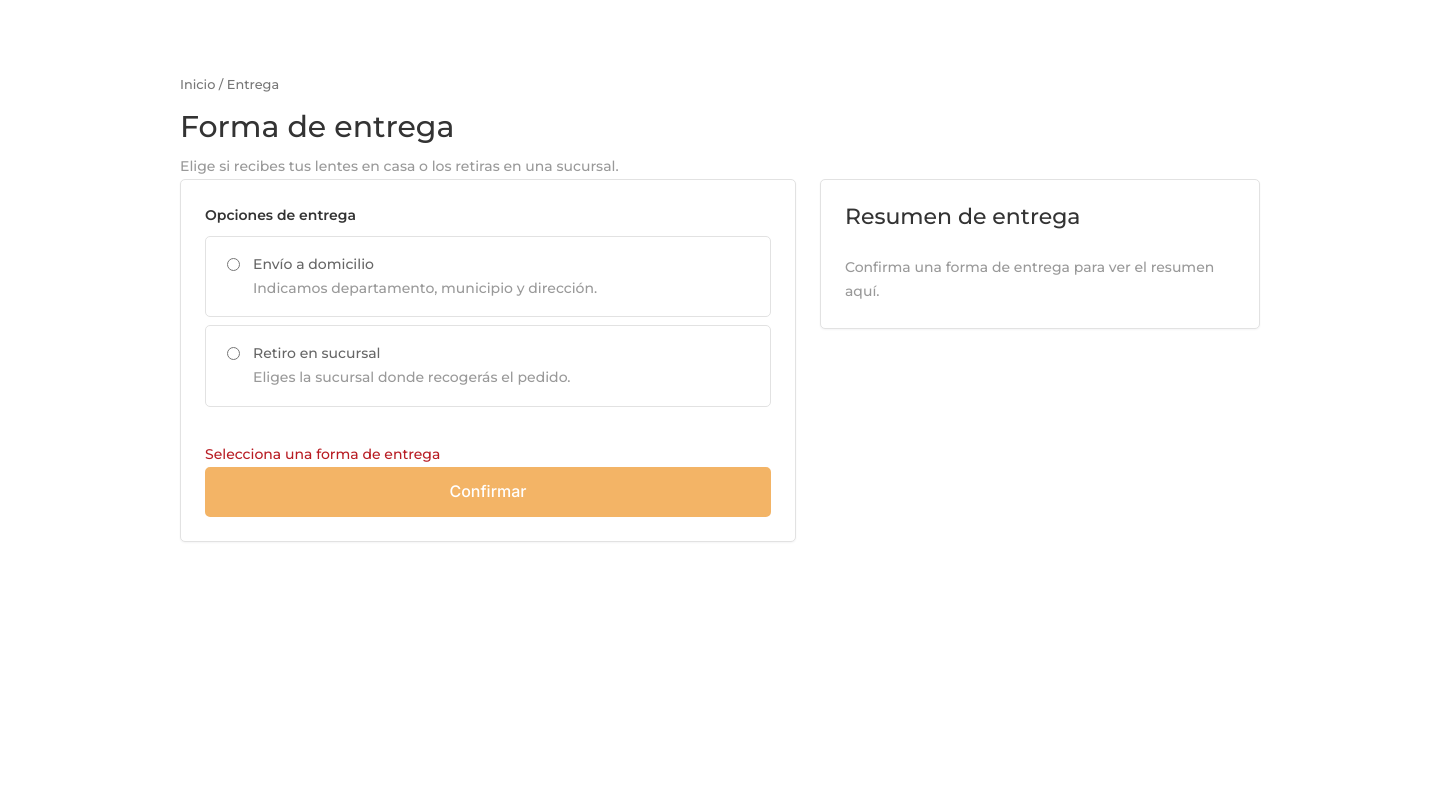
Test case: validación de forma de entrega › error al guardar: muestra el aviso y no llena el resumen
Click the radio button labelled "Envío a domicilio" at (234, 264), box [227,258,240,271]
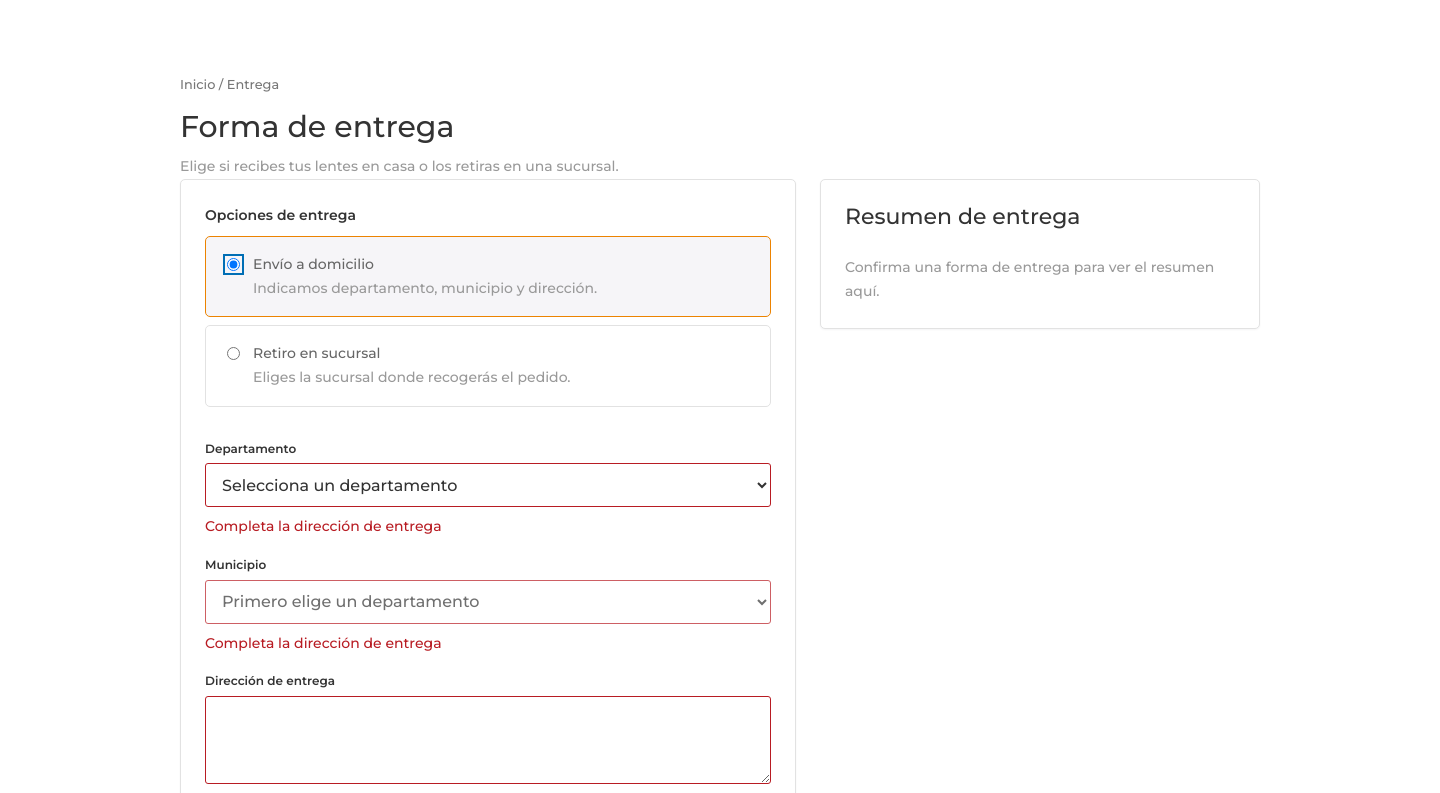
Select "San Salvador" in the dropdown labelled "Departamento" at (488, 485), box [205,463,771,507]
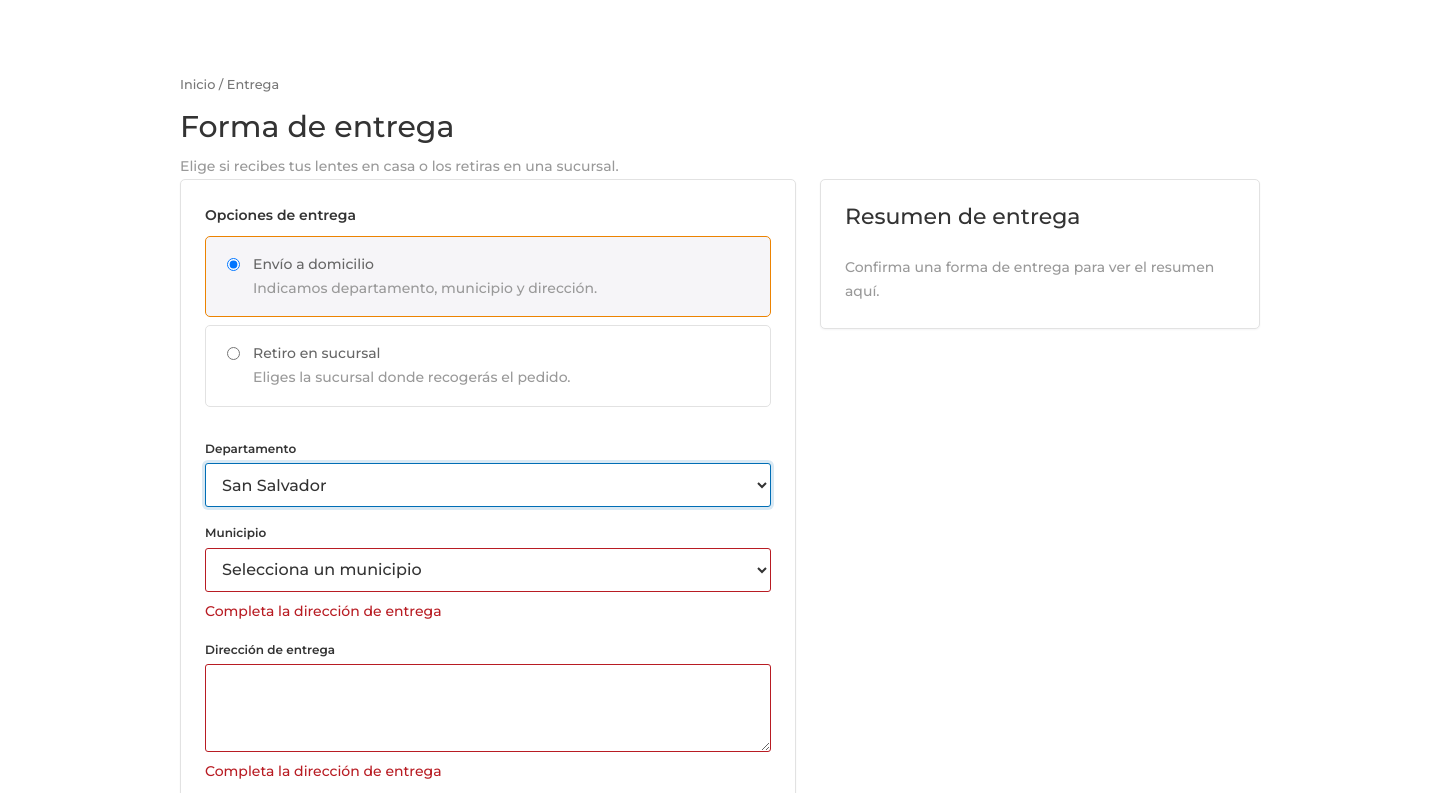
Select "Soyapango" in the dropdown labelled "Municipio" at (488, 570), box [205,548,771,592]
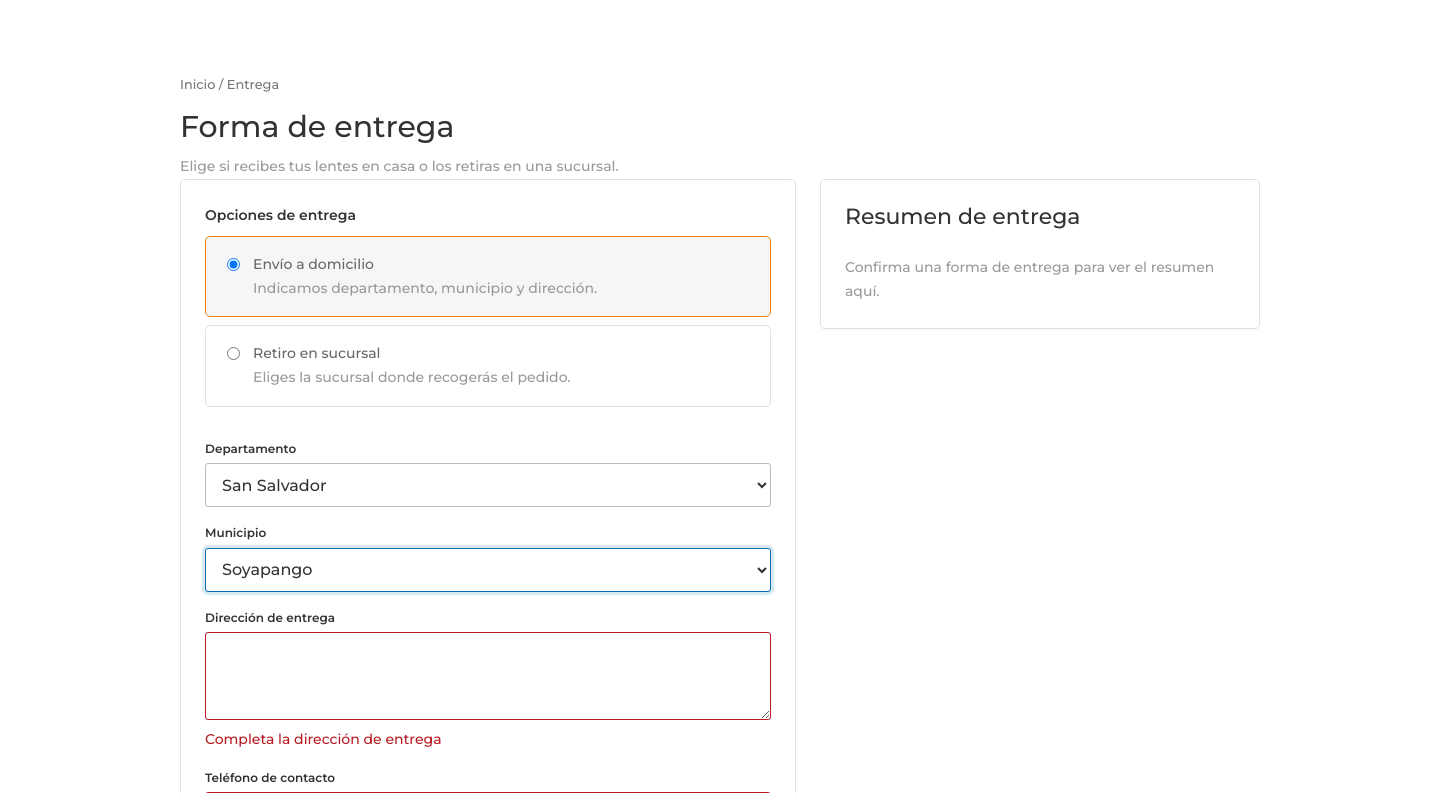
Type "Calle 1" into the text box labelled "Dirección de entrega" at (488, 676), box [205,632,771,720]
(page scrolled)
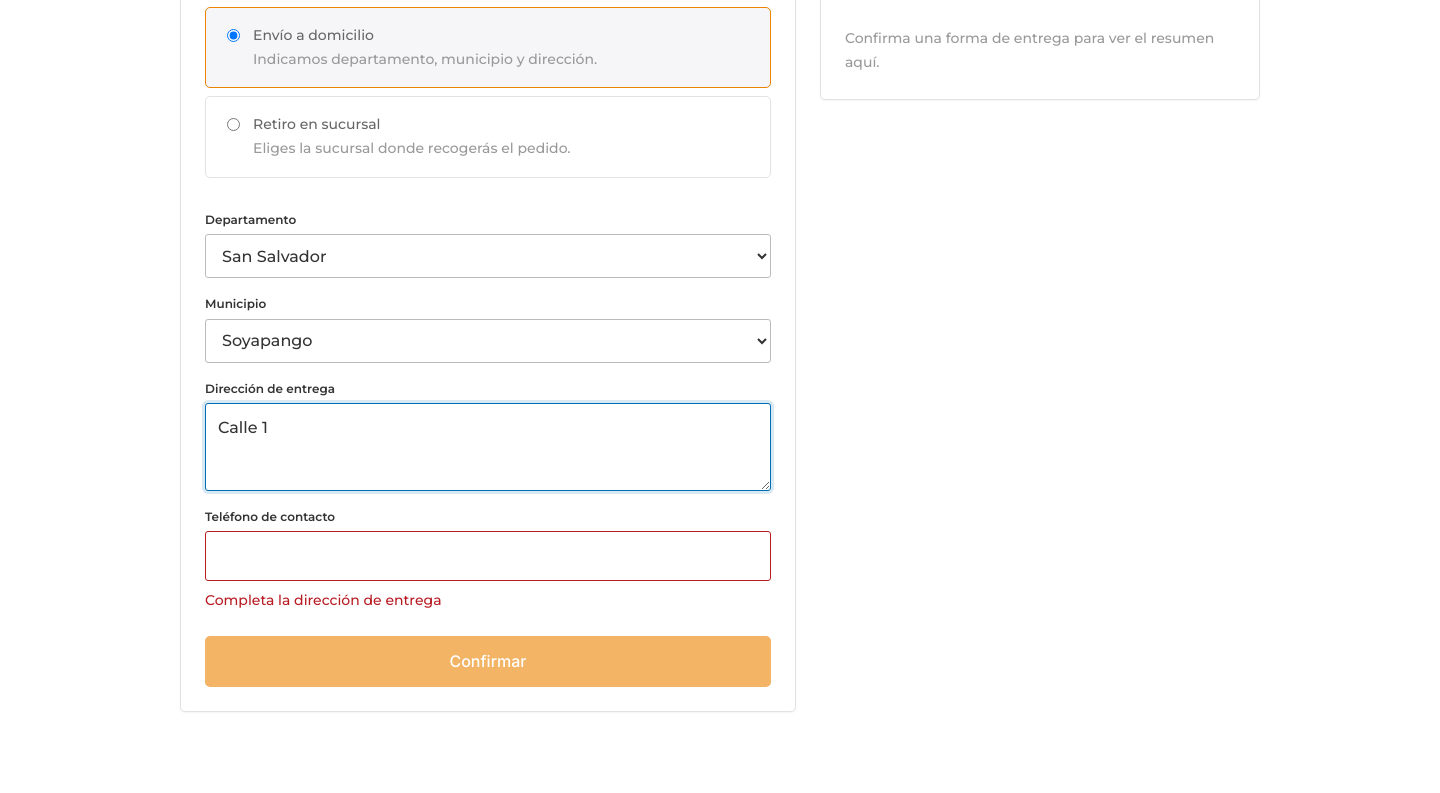
Type "78561234" into the field labelled "Teléfono de contacto" at (488, 556), box [205,532,771,581]
(page scrolled)
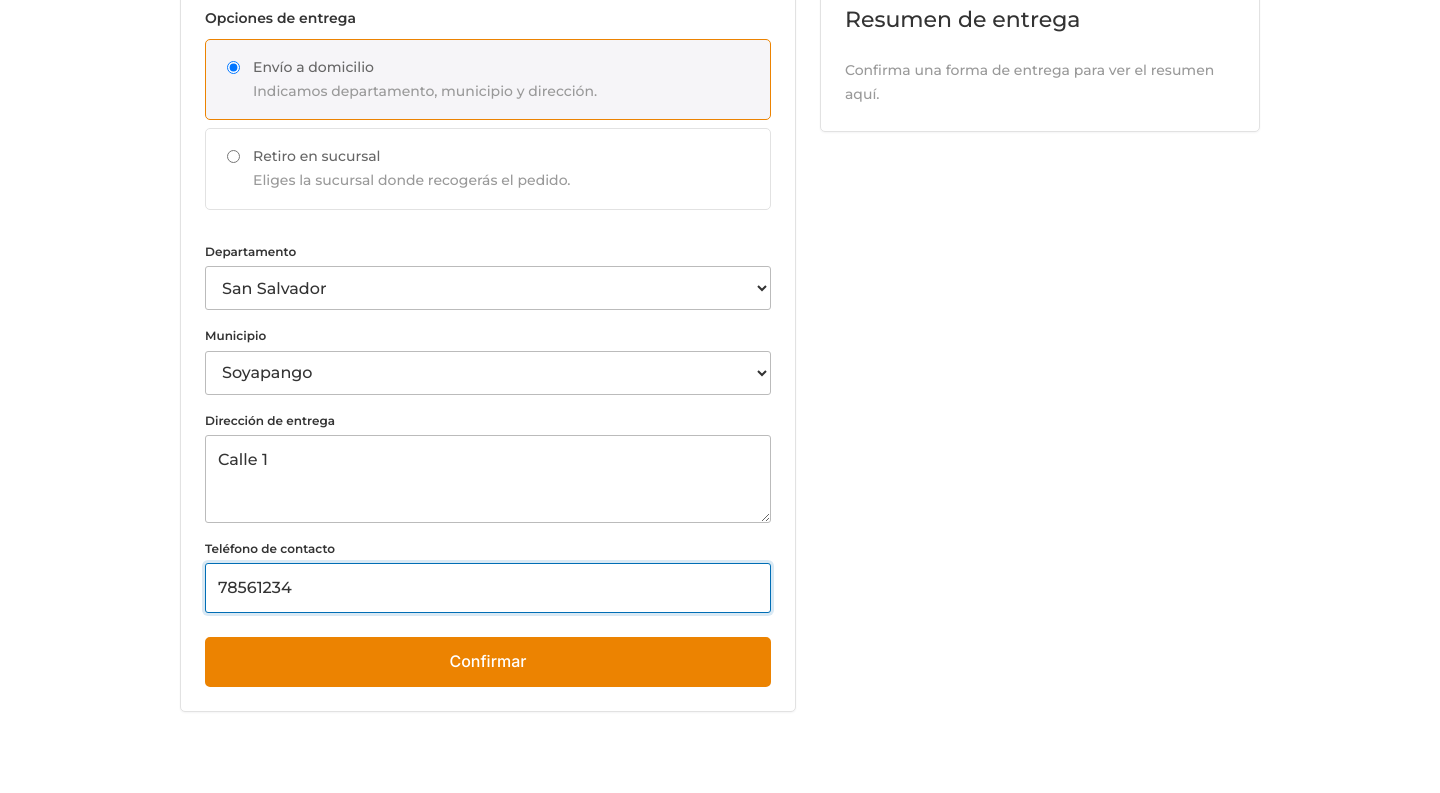
Click the button "Confirmar" at (488, 662), box [205,637,771,687]
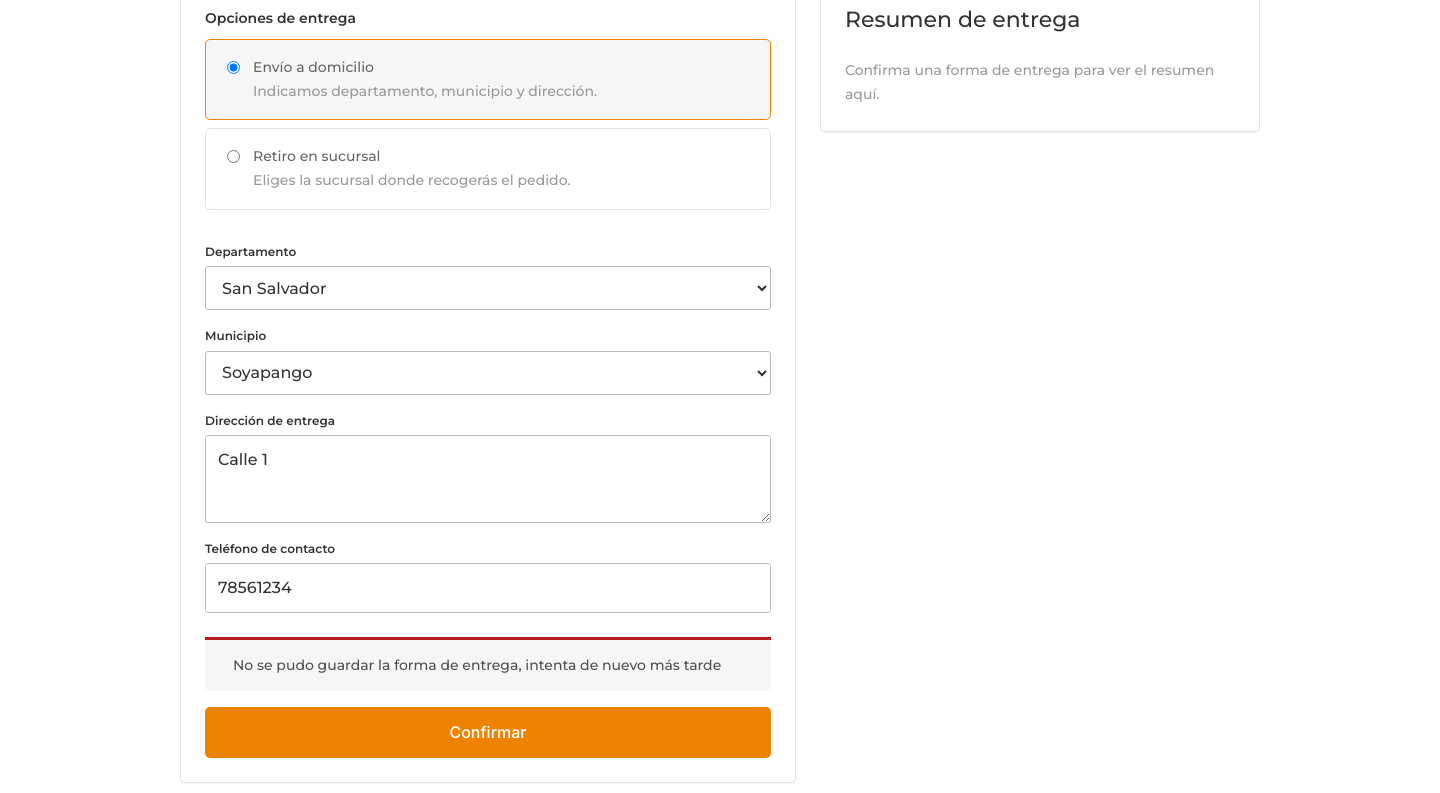
Expected: the text "Confirma una forma de entrega para ver el resumen aquí." is shown, [845,59,1235,107]
Result: the button "Confirmar" is enabled at [205,708,771,758]
Result: the text "No se pudo guardar la forma de entrega, intenta de nuevo más tarde" is shown at [205,637,771,692]
